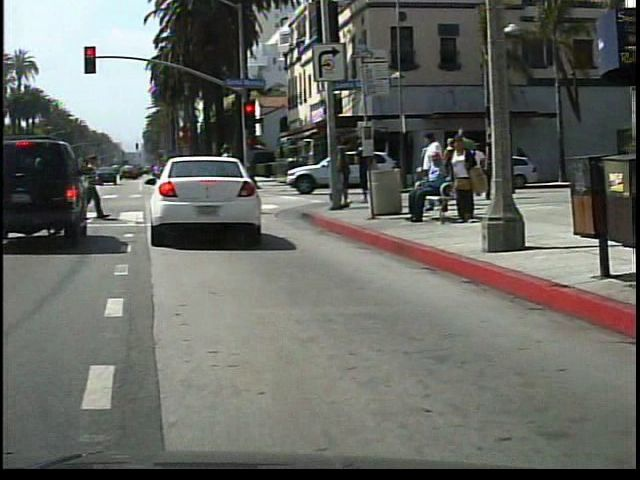person: (448, 132, 485, 231), (409, 153, 456, 225), (213, 139, 250, 219)
